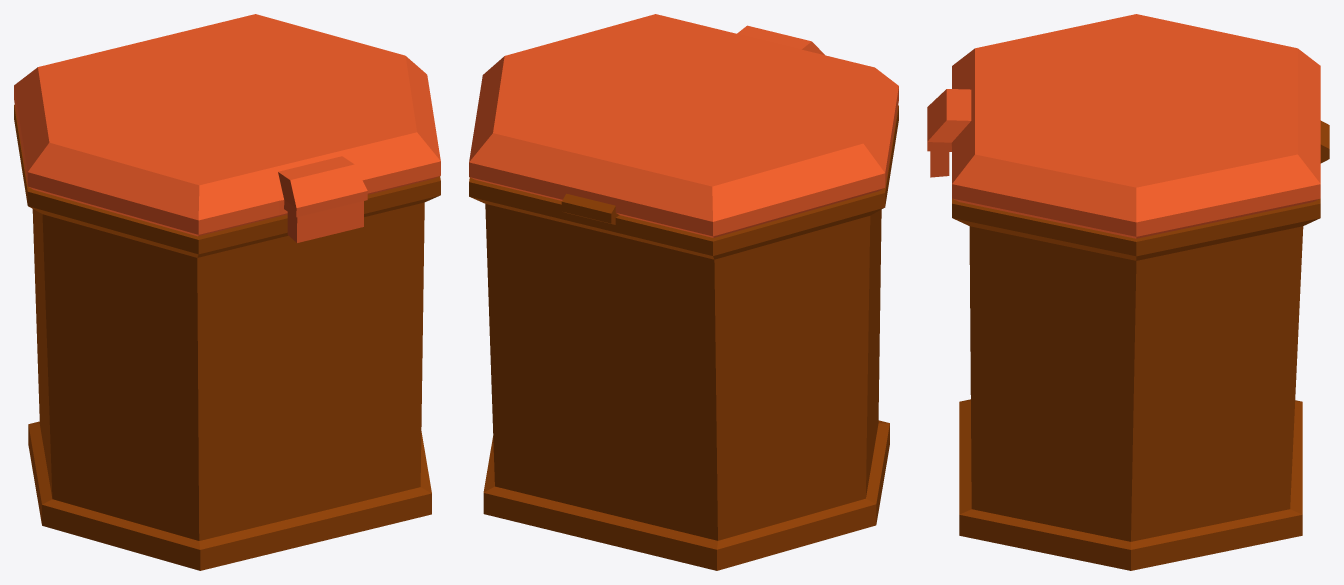
Rendered from Compost_01.fbx.
3 views of the same model, side by side, from view 1: azimuth 30°, elevation 25°; view 2: azimuth 150°, elevation 25°; view 3: azimuth 270°, elevation 25° (orthographic).
Visible parts, largest first — view 1: Compost_01; view 2: Compost_01; view 3: Compost_01.
Boxes of the visible parts, <box> form: Compost_01: <box>14,14,440,570</box>; Compost_01: <box>469,14,898,570</box>; Compost_01: <box>927,14,1329,570</box>.
Size of the model in its own units: 250 by 226 by 218.
